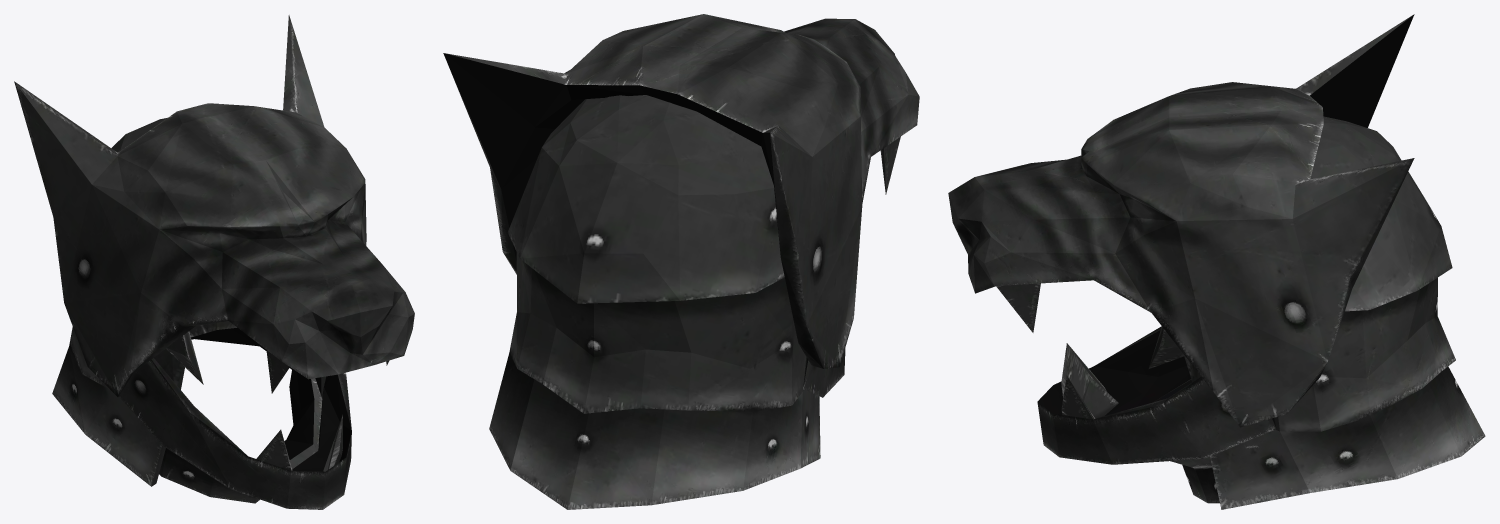
The model's file is CLEGANE.glb.
The picture shows the model from 3 angles, left to right: view 1: azimuth 30°, elevation 25°; view 2: azimuth 150°, elevation 25°; view 3: azimuth 270°, elevation 25°; orthographic projection. The views are drawn at different scales.
Parts seen in each view (by area): view 1: CLEGANE; view 2: CLEGANE; view 3: CLEGANE.
Boxes of the visible parts, x1=… form: CLEGANE: x1=14, y1=15, x2=414, y2=509; CLEGANE: x1=443, y1=14, x2=919, y2=509; CLEGANE: x1=948, y1=14, x2=1485, y2=509.
Size of the model in its own units: 0.2604 by 0.3447 by 0.4109.
1 material, 1 textured.
